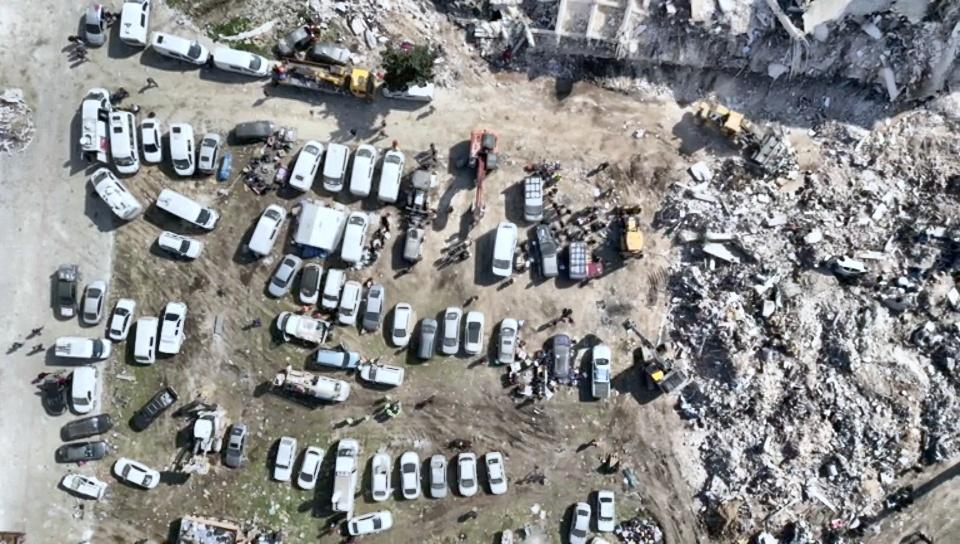kapali: (529, 74, 959, 196)
